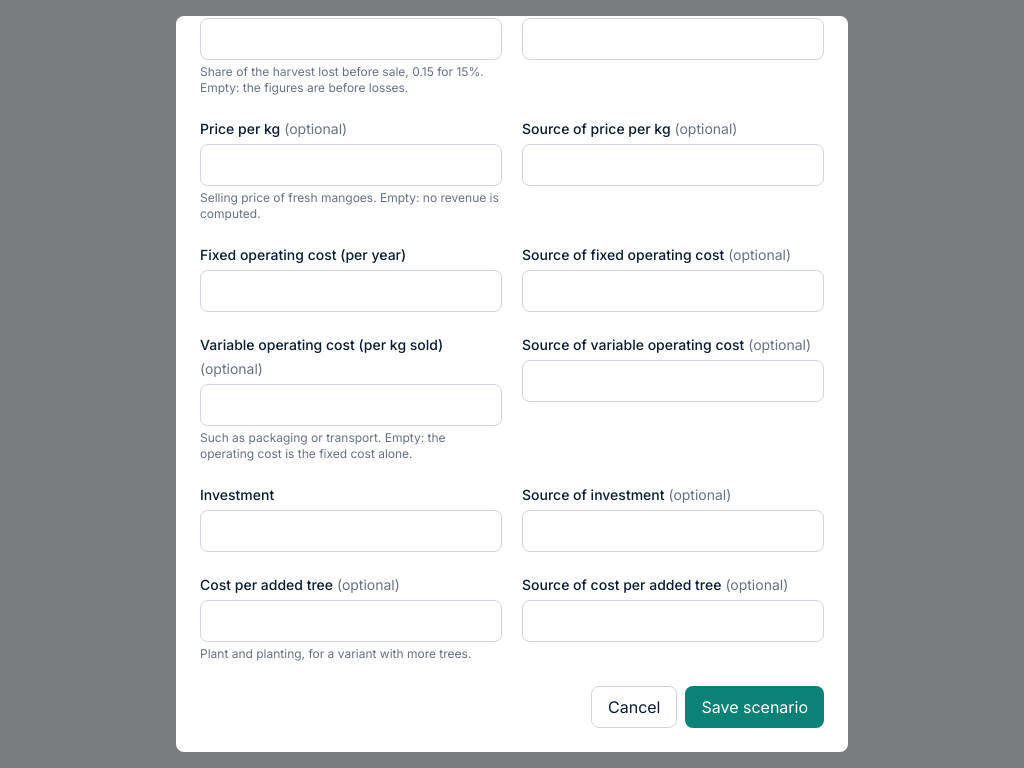
Test: the scenario form › refuses an empty form with the API's messages, and sends nothing
(page scrolled)
Click the button "Save scenario". click: (755, 707)
box: [686, 686, 824, 728]
(page scrolled)
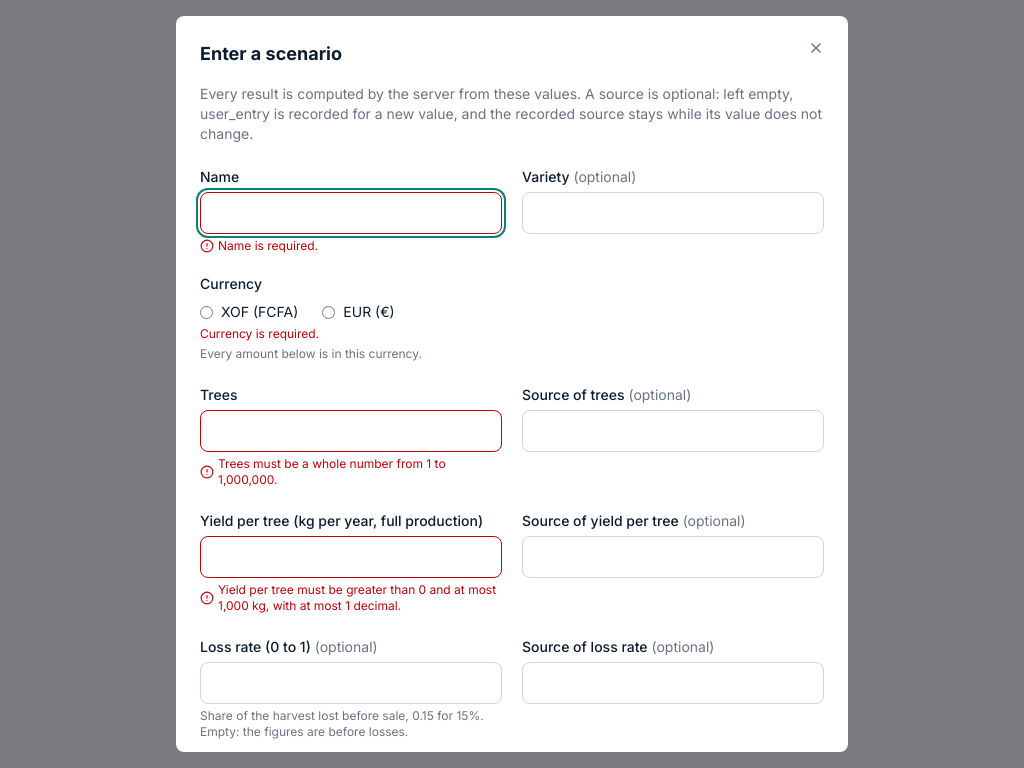
Now the text "Name is required." is shown, box [218, 238, 318, 254]
Now the text "Currency is required." is shown, box [200, 326, 319, 341]
